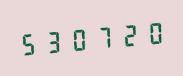five: (17, 26, 40, 60)
seven: (90, 20, 113, 54)
three: (41, 24, 64, 58)
two: (114, 18, 137, 51)
zero: (66, 22, 89, 56), (138, 16, 161, 49)
